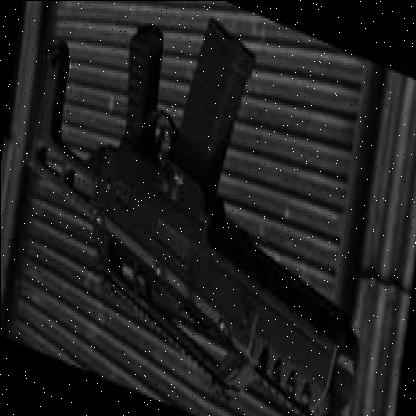rifle: (10, 0, 400, 416)
